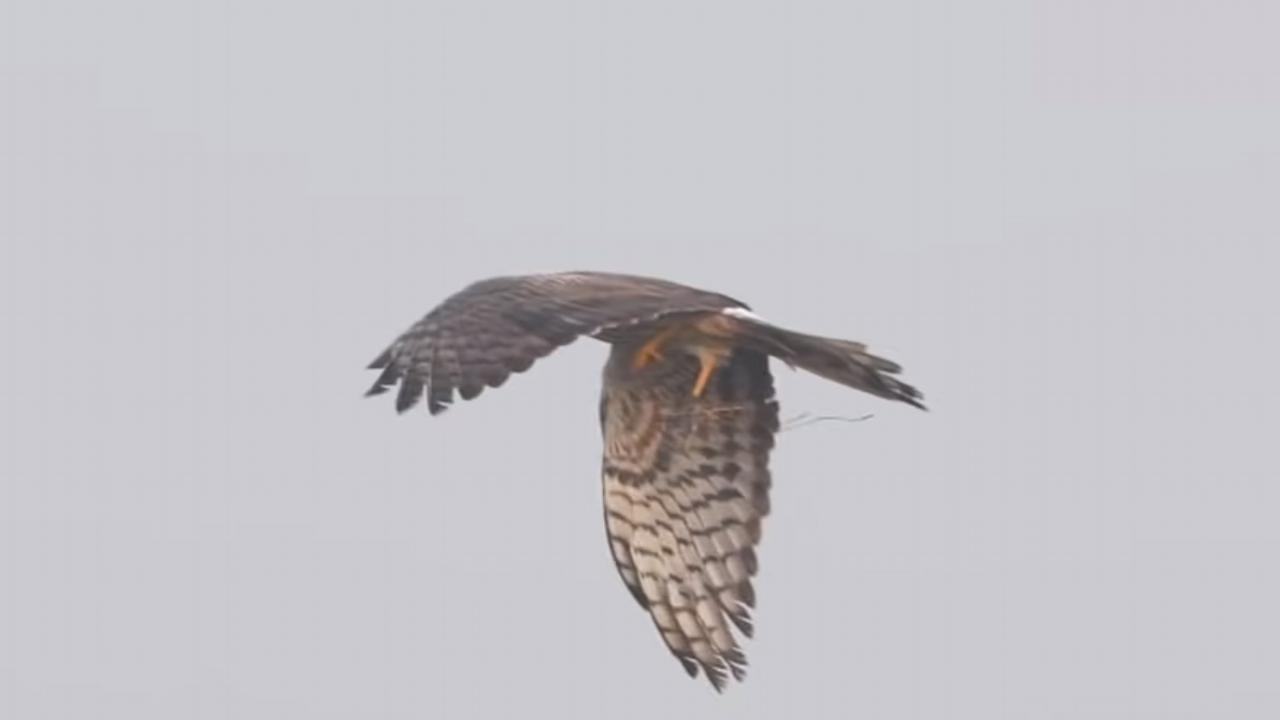Bird: (353, 263, 936, 696)
